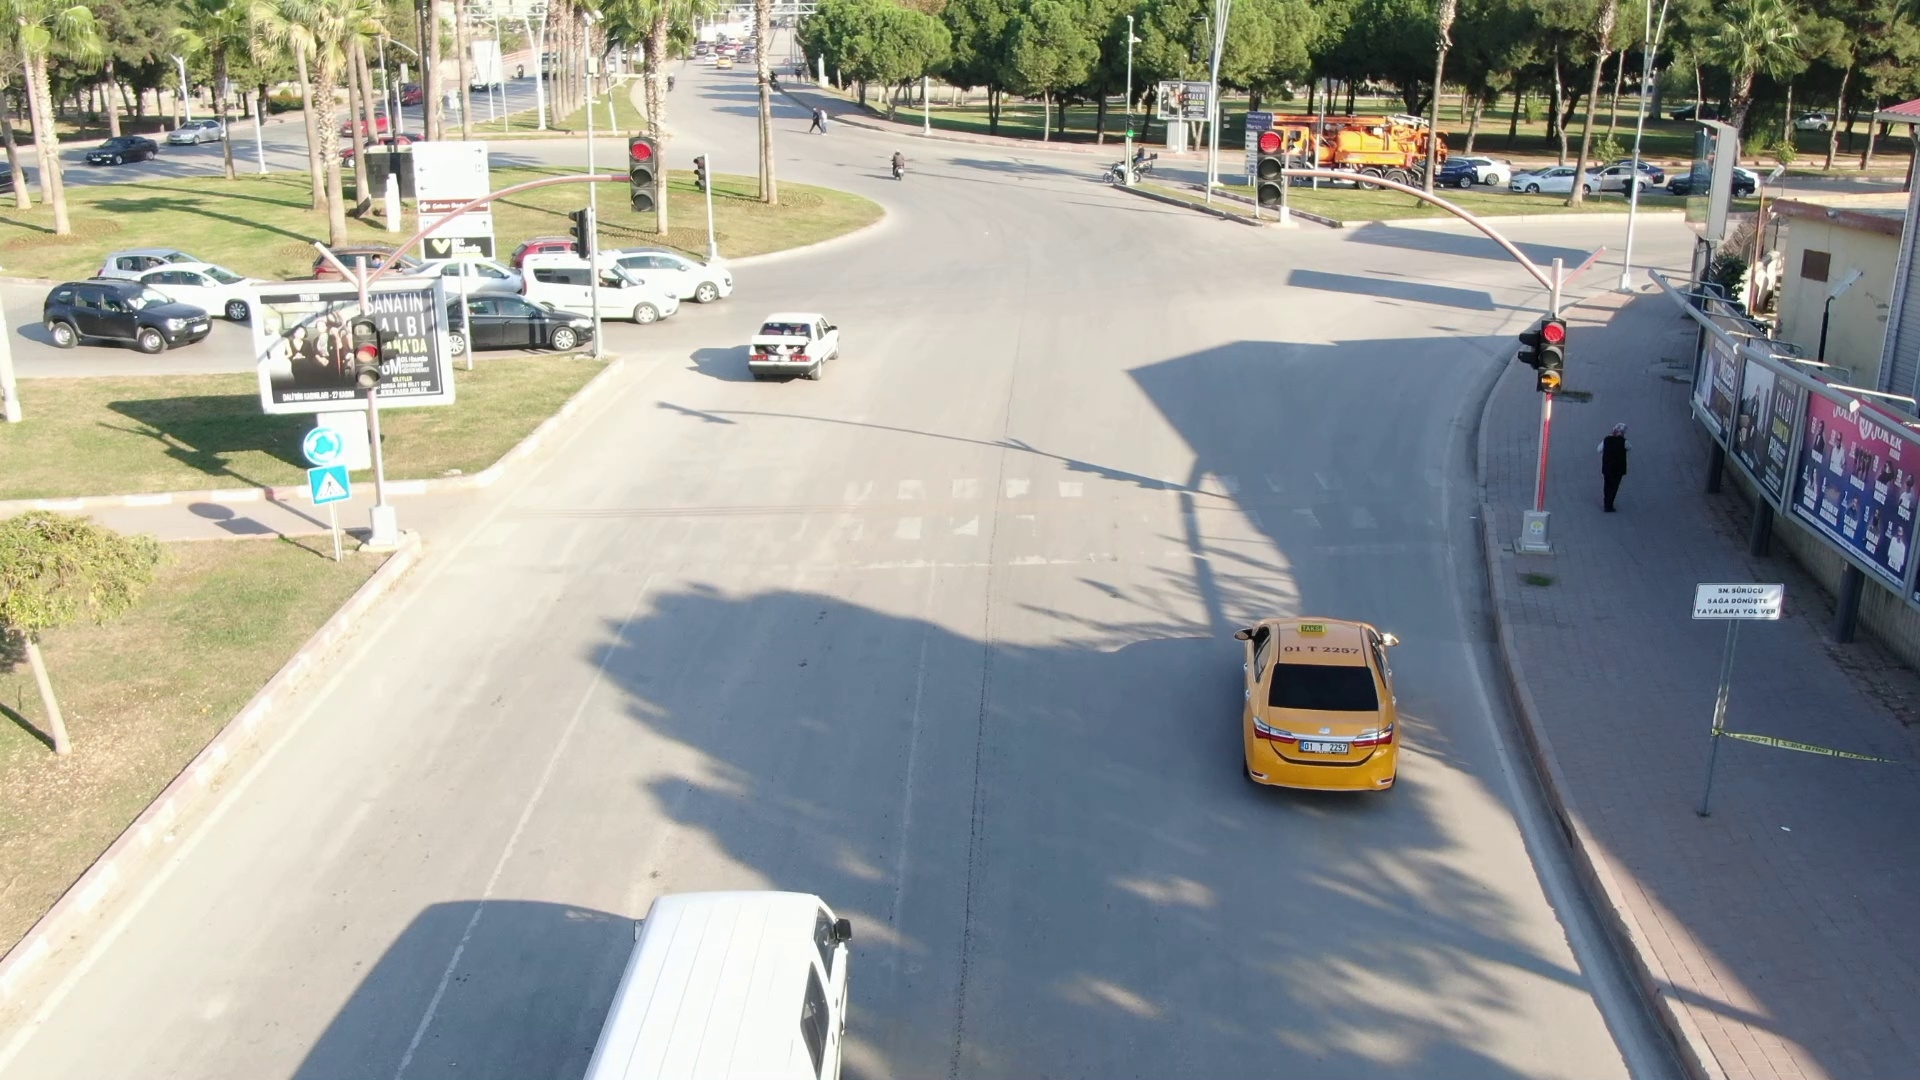car: (567, 886, 884, 1080), (1229, 600, 1414, 802), (33, 265, 215, 357), (508, 247, 682, 323), (443, 282, 604, 351), (615, 239, 731, 306), (743, 308, 847, 382)
person: (1590, 414, 1637, 523)
